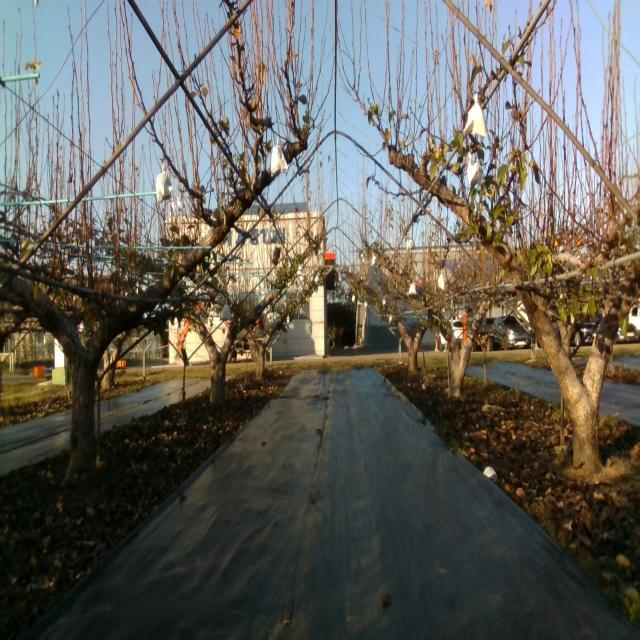pearbags: (464, 93, 488, 140), (154, 164, 173, 204), (271, 138, 289, 179), (466, 152, 485, 190), (219, 300, 231, 321), (266, 225, 277, 245)
